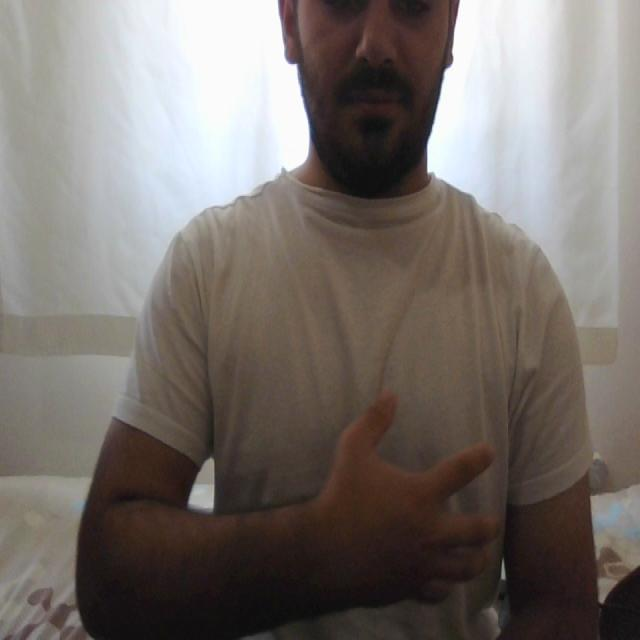Anne: (195, 370, 532, 621)
